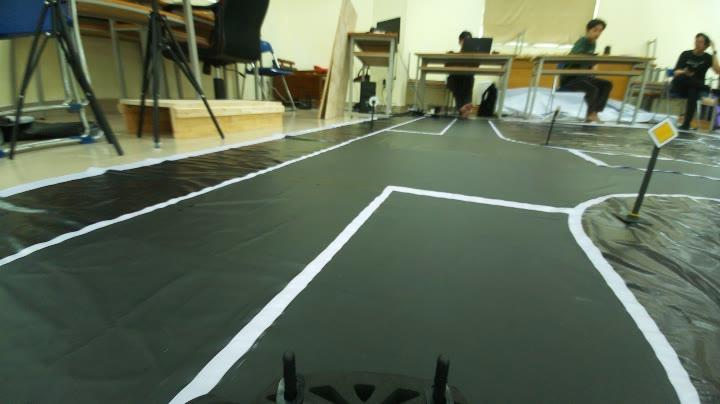priority: (642, 110, 682, 151)
